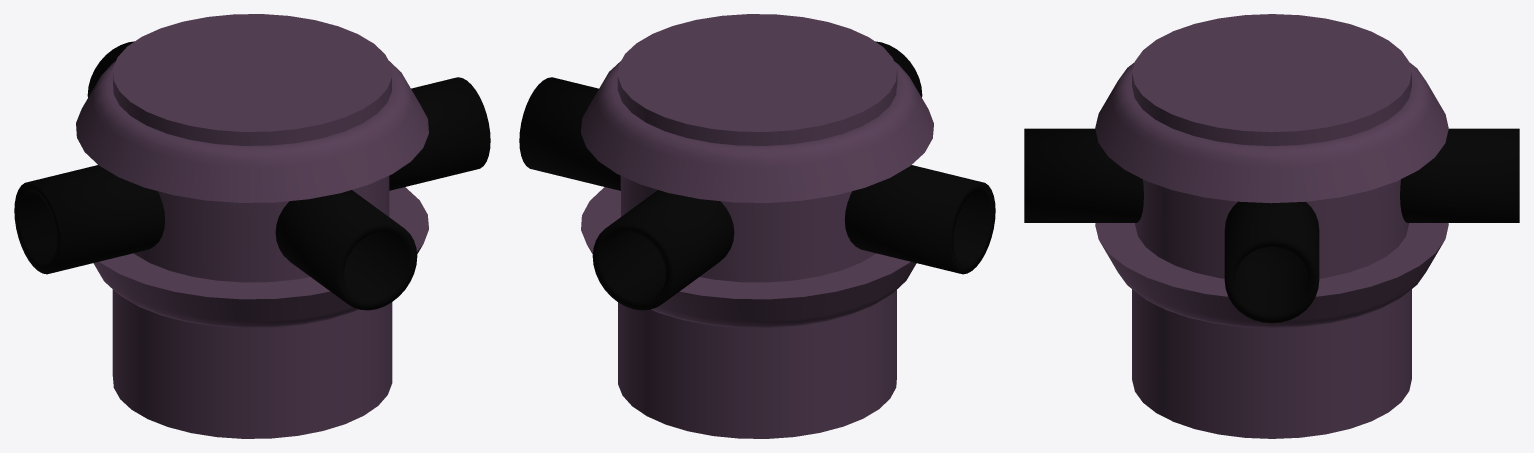
The model's file is tackShooter.glb.
The picture shows the model from 3 angles, left to right: view 1: azimuth 30°, elevation 25°; view 2: azimuth 150°, elevation 25°; view 3: azimuth 270°, elevation 25°; orthographic projection.
Parts seen in each view (by area): view 1: tackShooter, tackBarrels; view 2: tackShooter, tackBarrels; view 3: tackShooter, tackBarrels.
Part boxes in pixels (x1,y1,x2,y2): tackShooter: (76,14,428,438); tackBarrels: (14,41,490,310); tackShooter: (581,14,933,438); tackBarrels: (519,41,995,310); tackShooter: (1095,14,1448,438); tackBarrels: (1024,128,1519,323).
Size of the model in its own units: 1.98 by 1.35 by 1.98.
